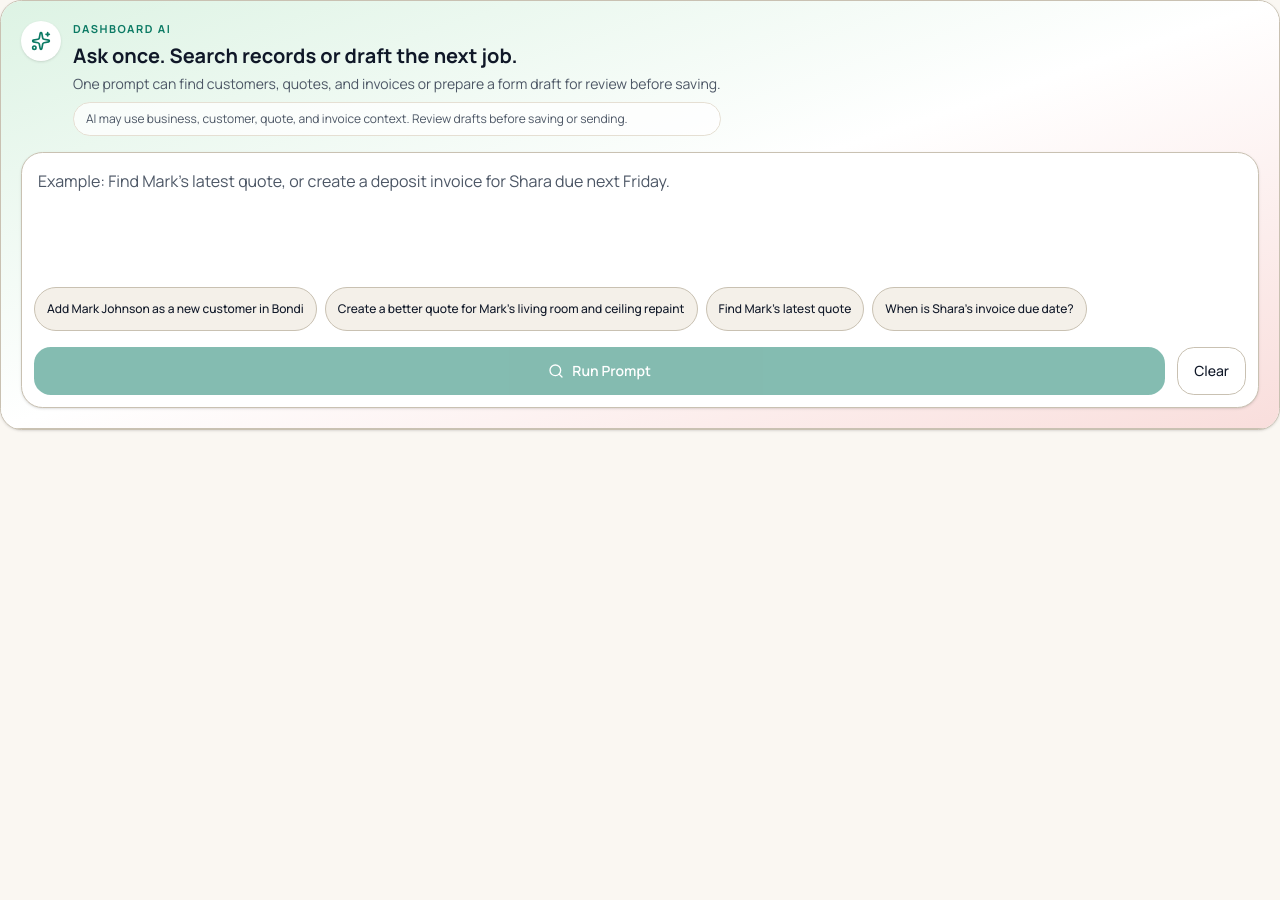
WorkspaceAssistant › submits a single unified prompt and renders answer results
Check: the text "AI may use business, customer, quote, and invoice context" is shown, box [86, 110, 628, 126]
Type "When is Shara's invoice due date?" into the text box named "Dashboard AI prompt" at (640, 216), box [34, 164, 1246, 268]
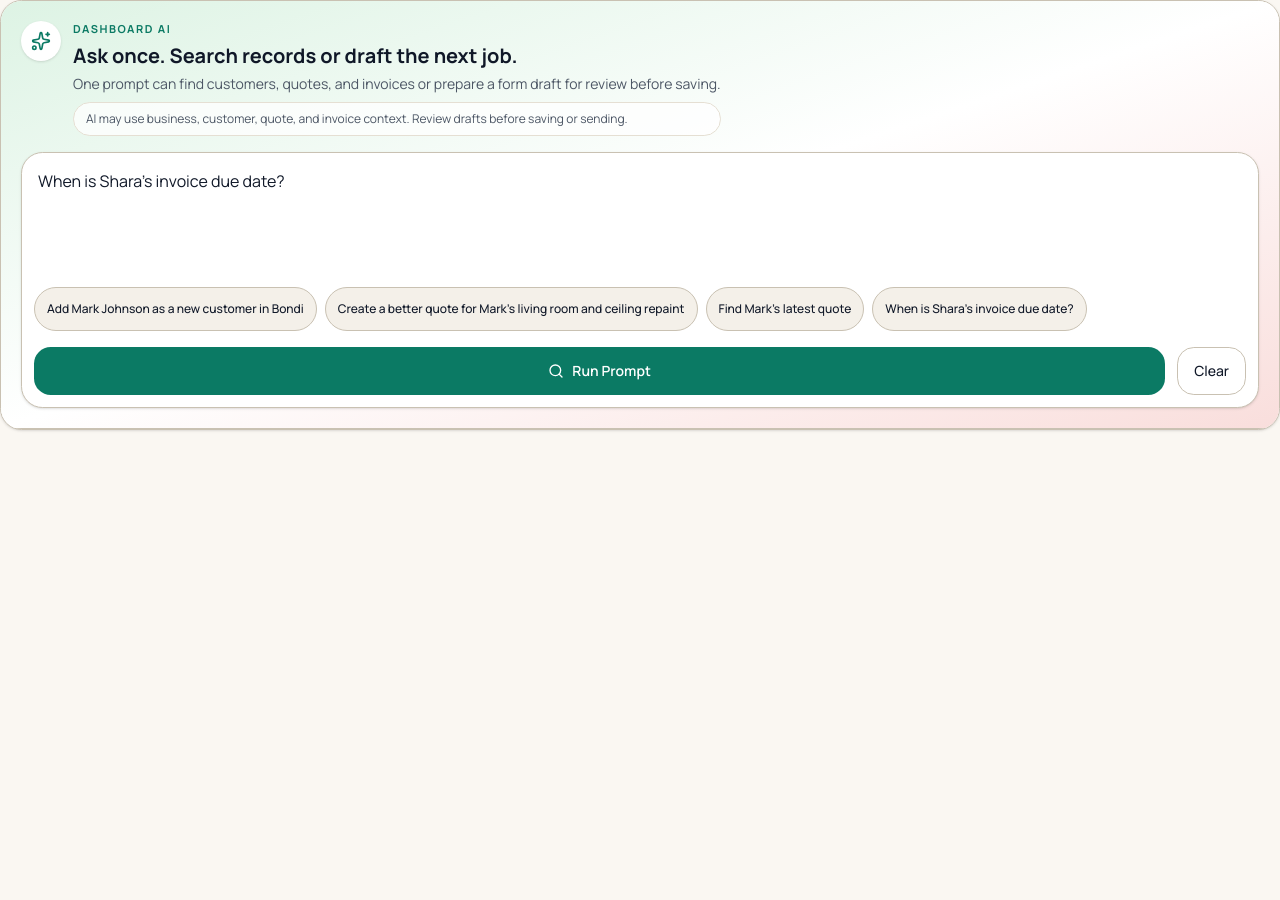
Click the button "Run Prompt" at (600, 370), box [34, 346, 1165, 394]
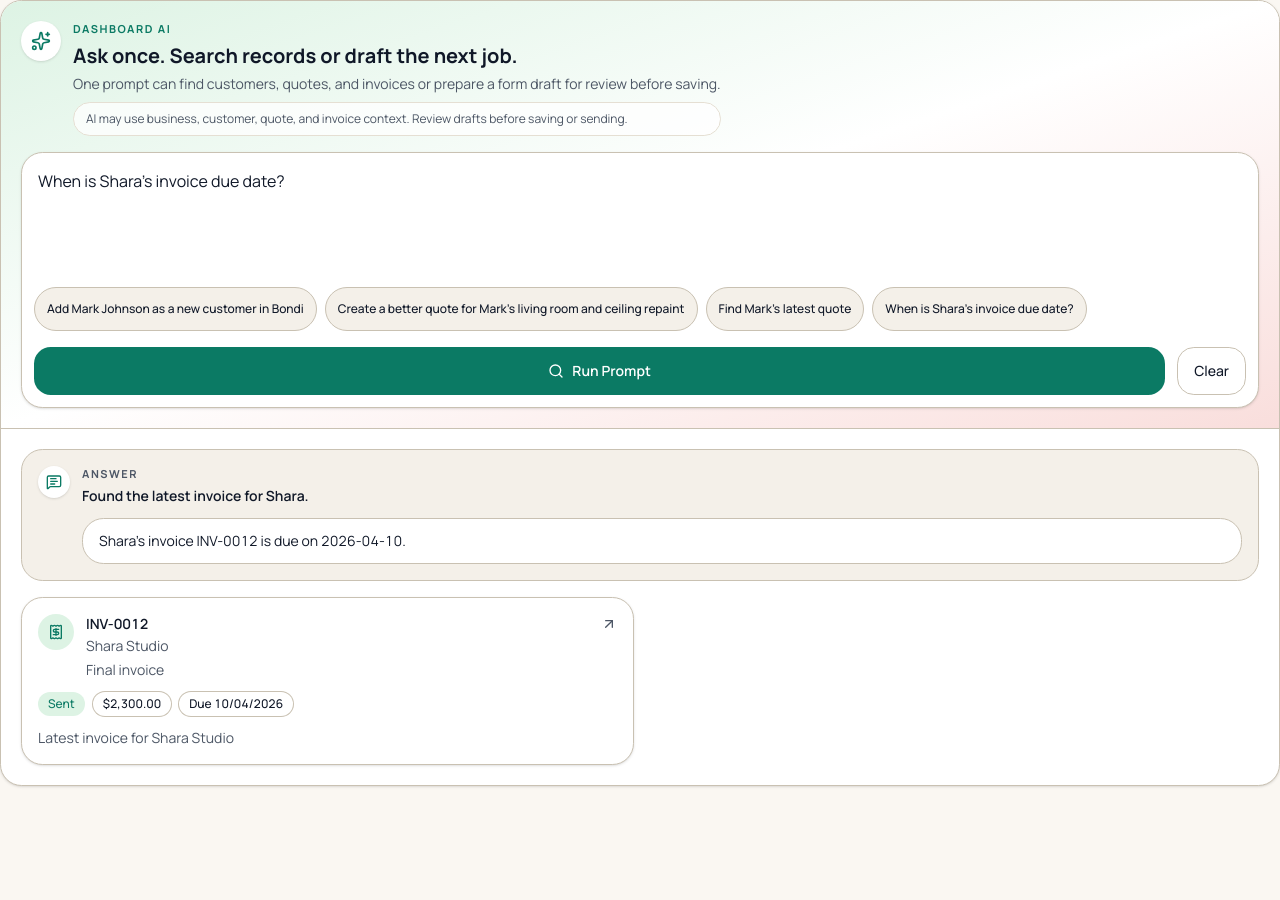
Check: the text "Shara's invoice INV-0012 is due on 2026-04-10." is shown, box [82, 518, 1242, 564]
